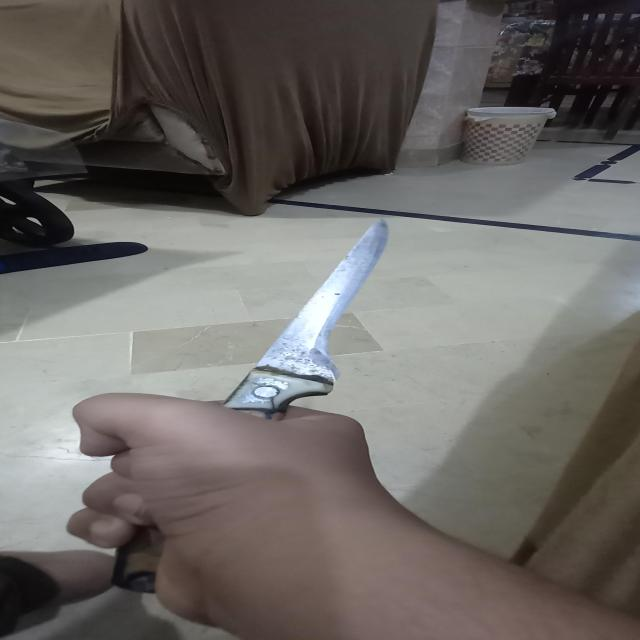Knife: (114, 219, 386, 589)
Person: (79, 392, 640, 640)
